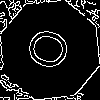O: (25, 25, 80, 76)
